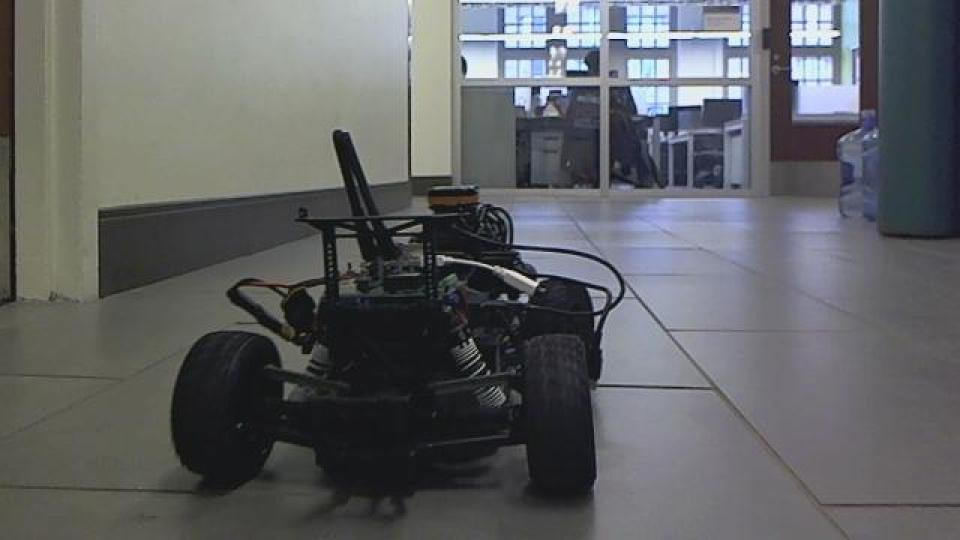car: (167, 126, 627, 510)
